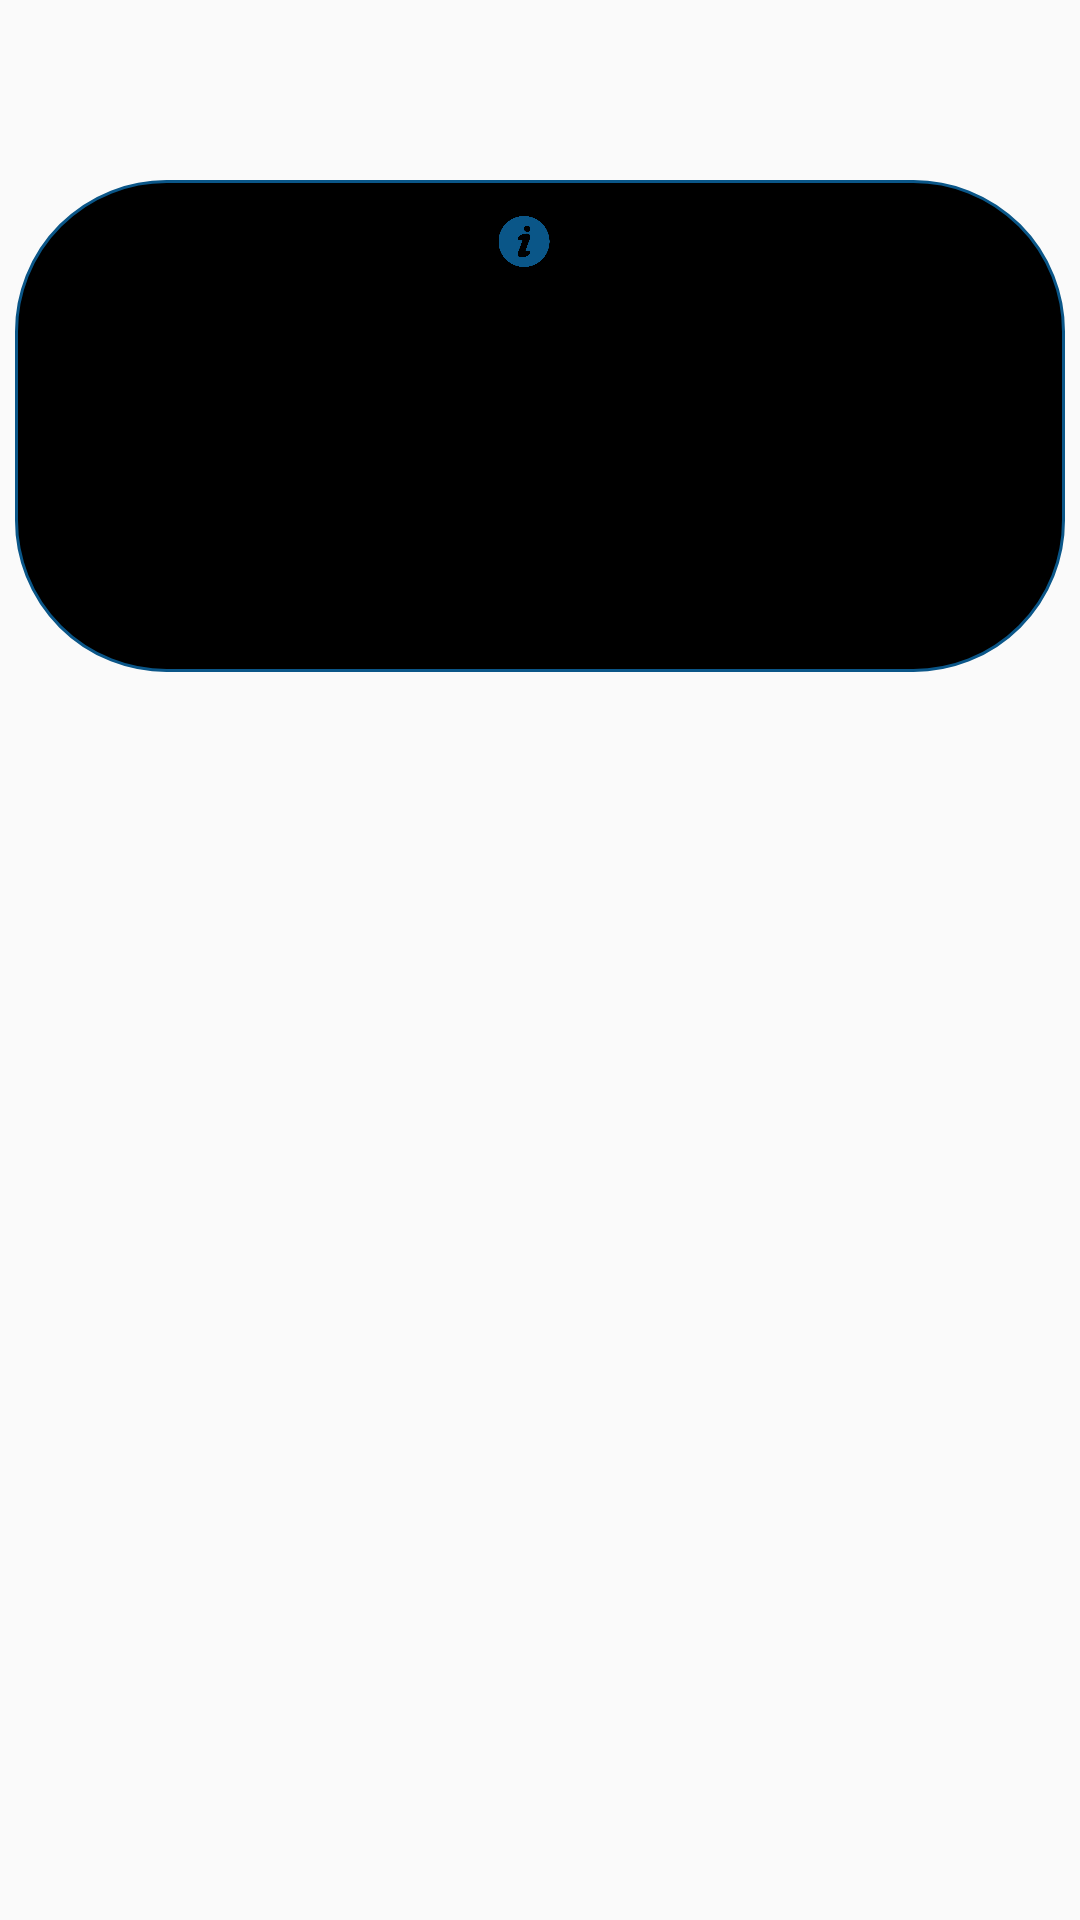

Icons on this 1080w x 1920h Android screen, each with its box as (x1, y1, x2, y2):
information: (499, 216, 550, 267)
